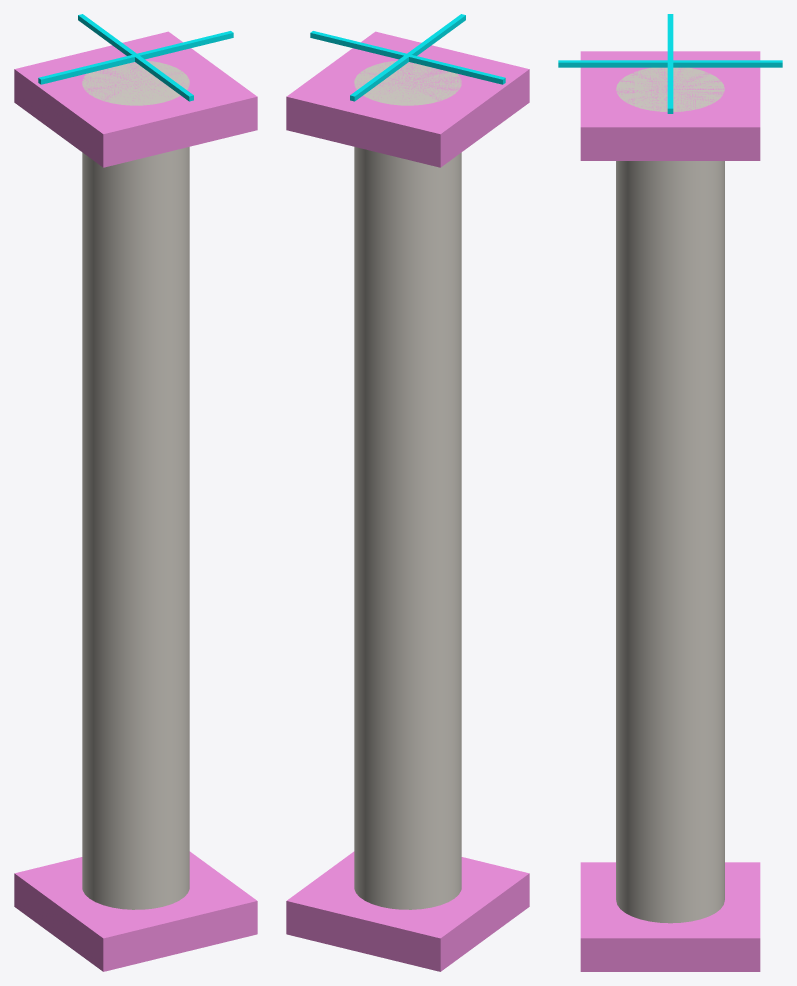
Rendered from generic-column-glb-001.glb.
3 views of the same model, side by side, from view 1: azimuth 30°, elevation 25°; view 2: azimuth 150°, elevation 25°; view 3: azimuth 270°, elevation 25° (orthographic).
Parts seen in each view (by area): view 1: structure/column_core_round, structure/top_plate_reference, structure/base_plate_reference, analysis/axis_x, analysis/axis_z; view 2: structure/column_core_round, structure/top_plate_reference, structure/base_plate_reference, analysis/axis_x, analysis/axis_z; view 3: structure/column_core_round, structure/top_plate_reference, structure/base_plate_reference, analysis/axis_z, analysis/axis_x.
Part boxes in pixels (bbox=[...]): structure/column_core_round: bbox=[82, 60, 189, 909]; structure/top_plate_reference: bbox=[14, 31, 257, 167]; structure/base_plate_reference: bbox=[14, 851, 257, 971]; analysis/axis_x: bbox=[38, 31, 233, 84]; analysis/axis_z: bbox=[78, 14, 193, 101]; structure/column_core_round: bbox=[354, 61, 461, 909]; structure/top_plate_reference: bbox=[286, 31, 529, 167]; structure/base_plate_reference: bbox=[286, 851, 529, 971]; analysis/axis_x: bbox=[310, 31, 505, 84]; analysis/axis_z: bbox=[350, 14, 465, 101]; structure/column_core_round: bbox=[616, 67, 724, 923]; structure/top_plate_reference: bbox=[580, 51, 760, 160]; structure/base_plate_reference: bbox=[580, 862, 760, 971]; analysis/axis_z: bbox=[558, 60, 782, 67]; analysis/axis_x: bbox=[667, 14, 673, 113].
Size of the model in its own units: 0.7219 by 3.1 by 0.7219.
